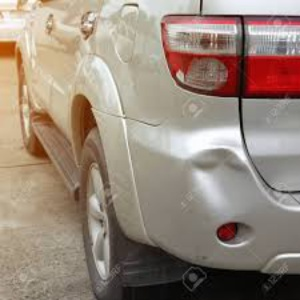bumper: (153, 136, 254, 216)
